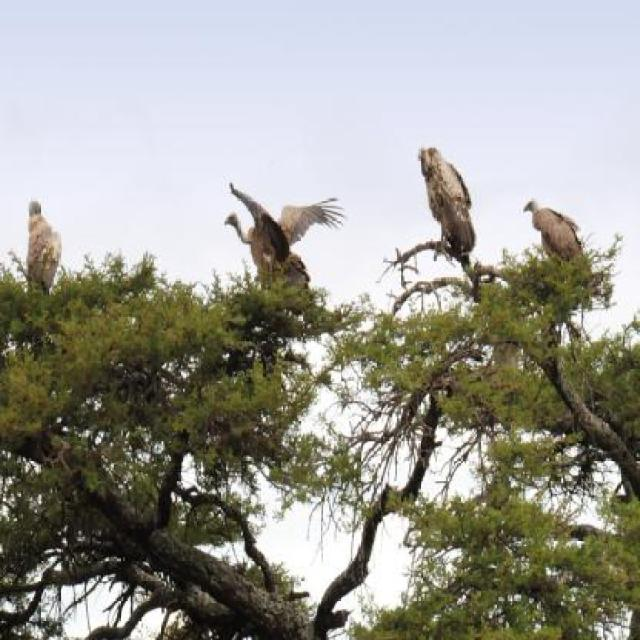Eagle: (414, 143, 478, 255)
